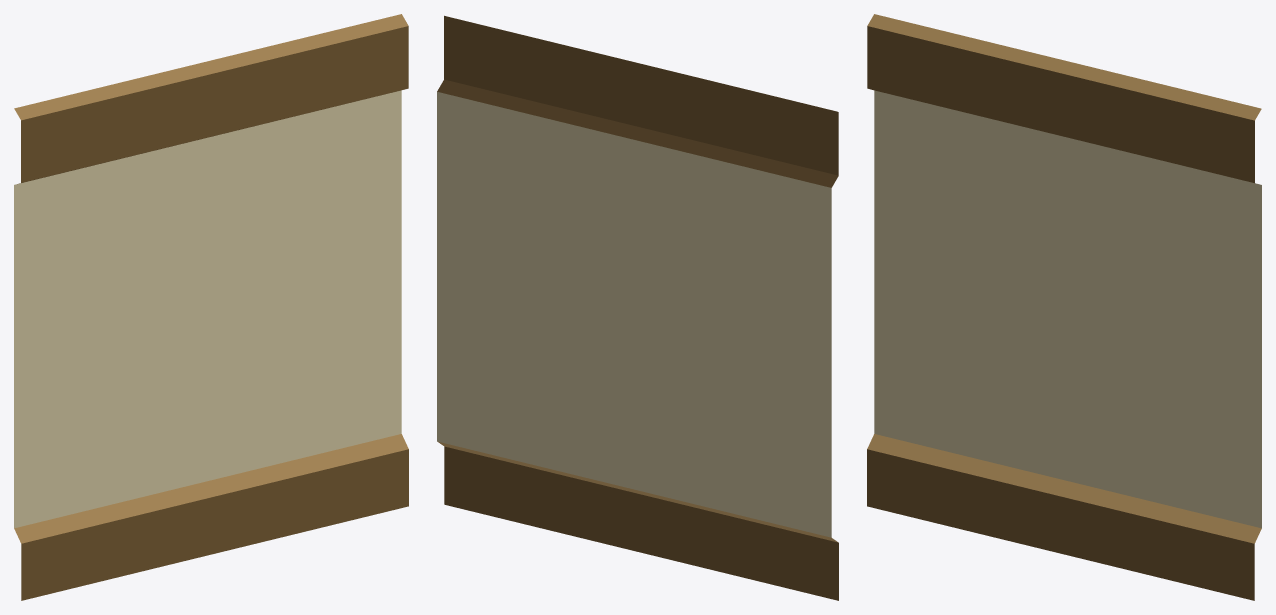
The model's file is Itr_Wall_Small_Base_01.FBX.
3 views of the same model, side by side, from view 1: azimuth 30°, elevation 25°; view 2: azimuth 150°, elevation 25°; view 3: azimuth 330°, elevation 25° (orthographic).
Visible parts, largest first — view 1: Itr_Wall_Base_01; view 2: Itr_Wall_Base_01; view 3: Itr_Wall_Base_01.
Part boxes in pixels (x1,y1,x2,y2): Itr_Wall_Base_01: [14, 14, 408, 600]; Itr_Wall_Base_01: [437, 15, 838, 600]; Itr_Wall_Base_01: [867, 14, 1261, 600].
Size of the model in its own units: 35.57 by 42.73 by 1.14.
